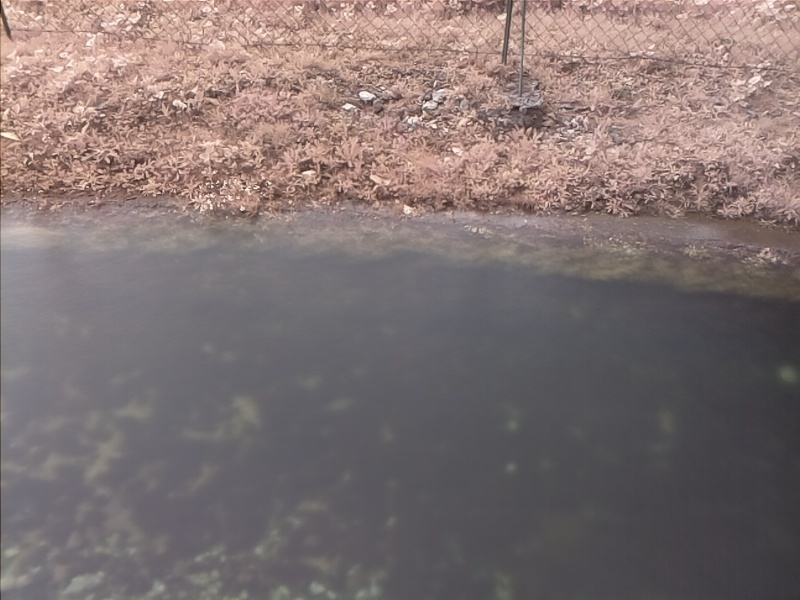Water: (1, 205, 800, 599)
